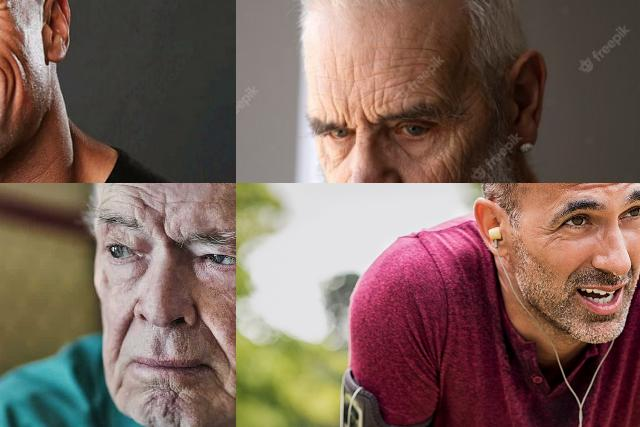chin: (160, 388, 186, 420)
crows_feet: (542, 224, 562, 242), (0, 0, 11, 21)
forehead: (386, 52, 428, 74), (126, 185, 154, 211), (369, 78, 387, 110), (344, 55, 361, 85), (420, 82, 444, 102), (328, 88, 340, 118)
frown_line: (155, 211, 173, 247), (341, 101, 354, 125), (358, 103, 370, 126)
gummy_smile: (0, 50, 27, 112), (195, 310, 232, 352), (115, 314, 133, 352), (566, 258, 588, 280)
masseter: (440, 159, 455, 183)
sad_smile: (213, 371, 236, 403)
